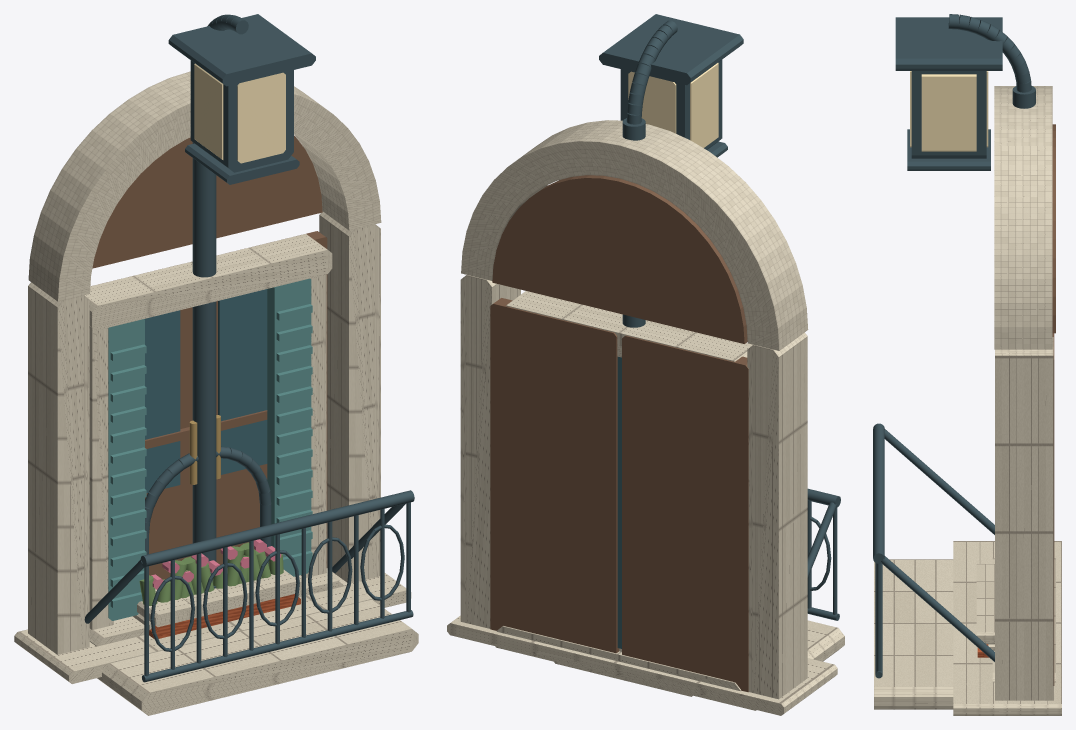
Rendered from lisbon-kit.glb.
3 views of the same model, side by side, from view 1: azimuth 30°, elevation 25°; view 2: azimuth 150°, elevation 25°; view 3: azimuth 270°, elevation 25° (orthographic).
Visible parts, largest first — view 1: portal/stone, window/stone, window/shutter, portal/wood, lamp/metal, balcony/stone, portal/glass, balcony/metal, lamp/lantern, balcony-detail/metal, cornice/stone, flowerbox/leaf (+5 smaller); view 2: portal/wood, portal/stone, lamp/metal, window/stone, lamp/lantern, balcony/metal, window/glass, balcony/stone; view 3: portal/stone, lamp/metal, balcony/stone, balcony/metal, lamp/lantern, portal/wood, cornice/stone, window/stone.
Boxes of the visible parts, x1,y1,x2,y2 form: portal/stone: [14, 71, 411, 683]; window/stone: [84, 234, 344, 646]; window/shutter: [108, 278, 312, 620]; portal/wood: [92, 135, 327, 579]; lamp/metal: [168, 14, 315, 588]; balcony/stone: [97, 599, 418, 715]; portal/glass: [144, 289, 267, 492]; balcony/metal: [84, 490, 414, 682]; lamp/lantern: [194, 63, 285, 163]; balcony-detail/metal: [150, 524, 404, 651]; cornice/stone: [133, 570, 301, 630]; flowerbox/leaf: [139, 542, 283, 605]; portal/wood: [490, 175, 748, 692]; portal/stone: [447, 120, 837, 715]; lamp/metal: [599, 14, 743, 327]; window/stone: [496, 291, 752, 690]; lamp/lantern: [628, 63, 718, 147]; balcony/metal: [807, 488, 840, 620]; window/glass: [617, 357, 621, 648]; balcony/stone: [495, 620, 844, 710]; portal/stone: [953, 86, 1061, 715]; lamp/metal: [895, 14, 1035, 170]; balcony/stone: [874, 559, 953, 709]; balcony/metal: [873, 423, 994, 678]; lamp/lantern: [910, 71, 988, 151]; portal/wood: [1052, 124, 1055, 685]; cornice/stone: [976, 564, 994, 650]; window/stone: [992, 558, 1055, 682].
Bounding box in the file's own units: 2.35 × 4.17 × 1.13.
Materials: 14 (6 with a texture image).
